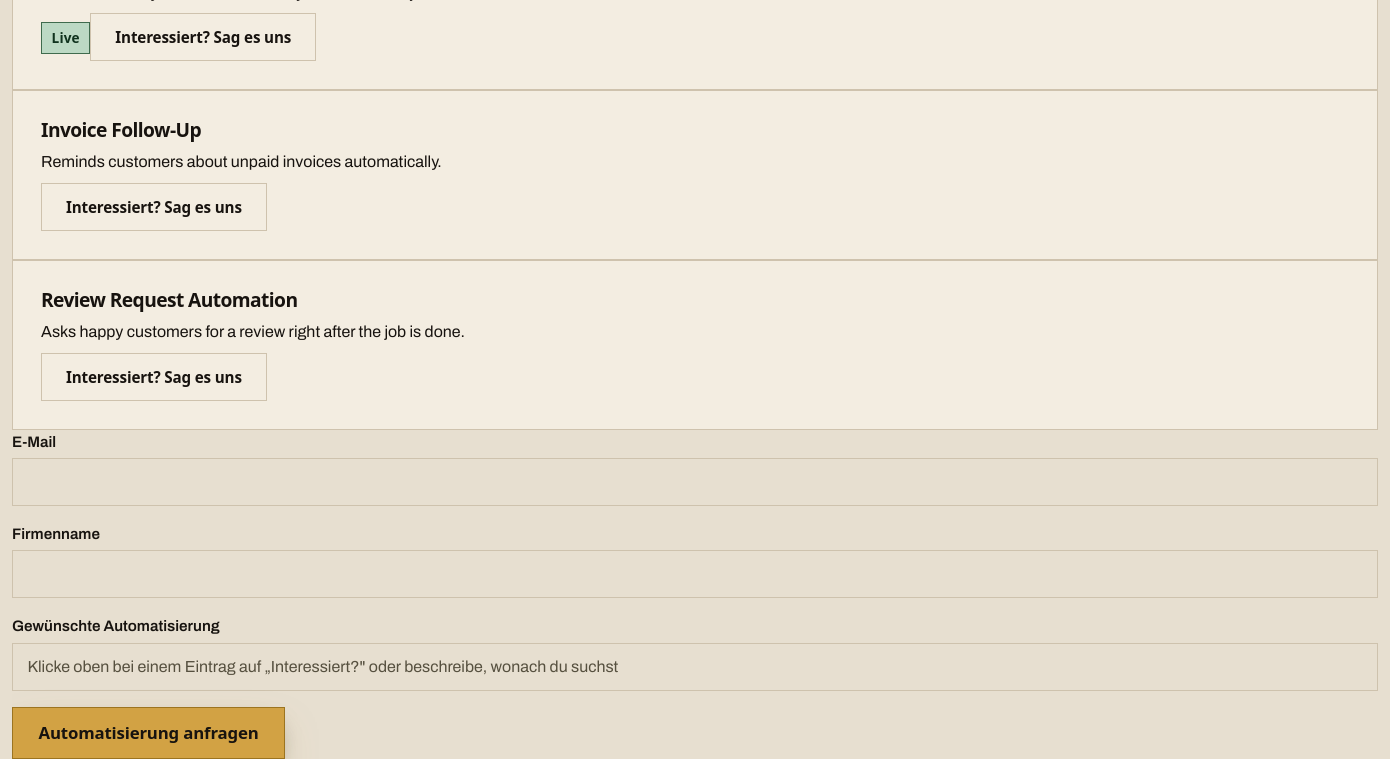
Test: MarketplaceTestPage › blocks submit with an inline error when required fields are empty
(page scrolled)
Click the button "Automatisierung anfragen": point(149, 733) [12, 707, 285, 758]
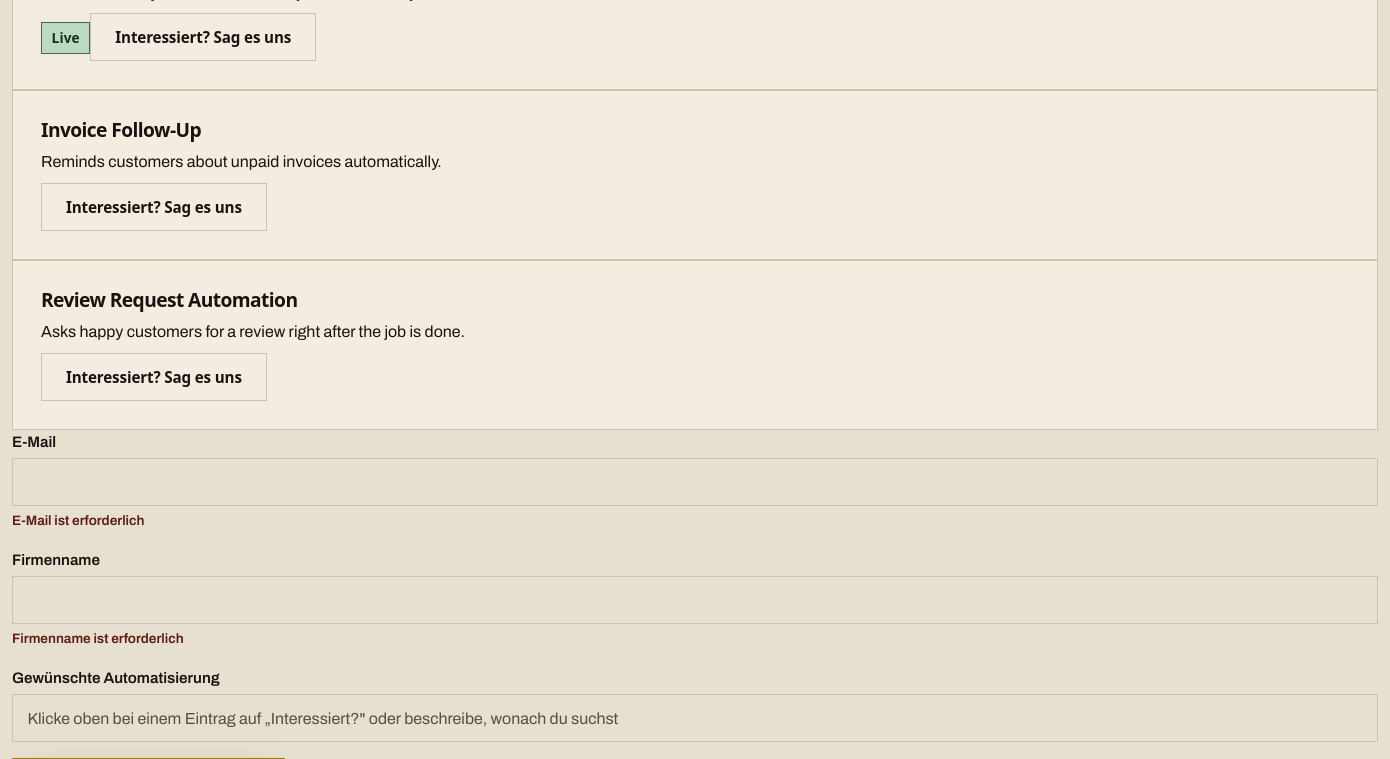
Expected: the text "E-Mail ist erforderlich" is shown, [12, 513, 144, 528]
